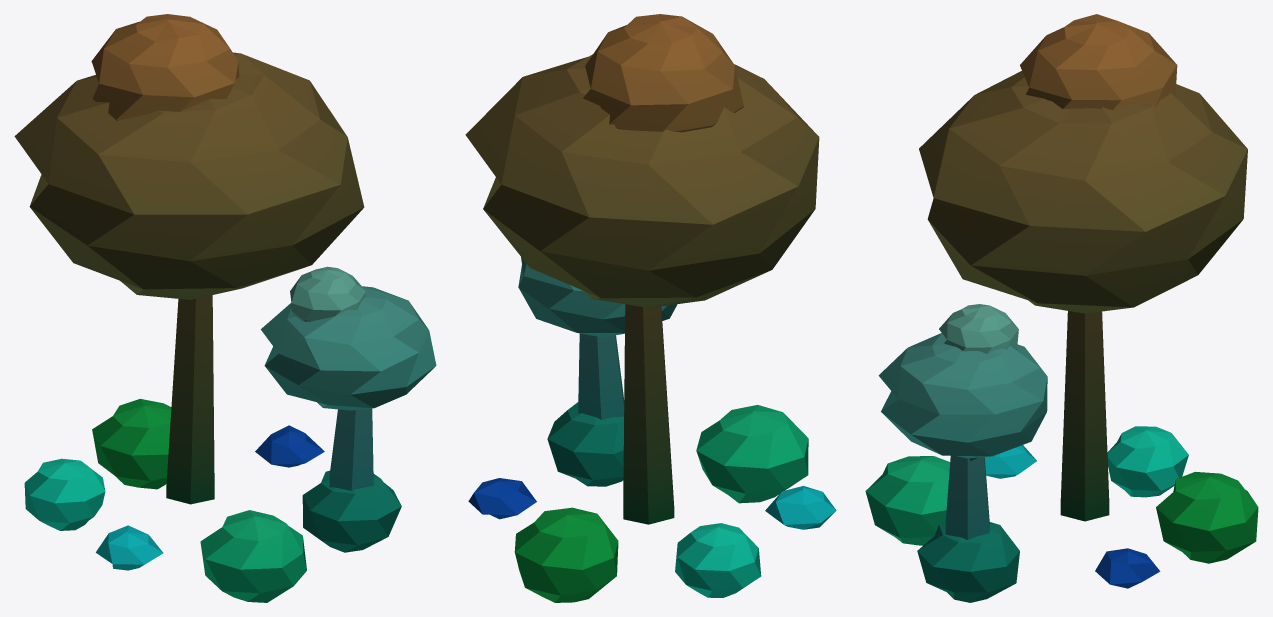
File: broadleaf_03.glb
3 renders of one model, left to right at view 1: azimuth 30°, elevation 25°; view 2: azimuth 150°, elevation 25°; view 3: azimuth 270°, elevation 25°, orthographic. The views are drawn at different scales.
Parts seen in each view (by area): view 1: broadleaf_03; view 2: broadleaf_03; view 3: broadleaf_03.
Boxes of the visible parts, <box> form: broadleaf_03: <box>14,14,436,602</box>; broadleaf_03: <box>465,14,836,602</box>; broadleaf_03: <box>865,14,1258,602</box>.
Bounding box in the file's own units: 0.8893 × 1.36 × 0.94.
